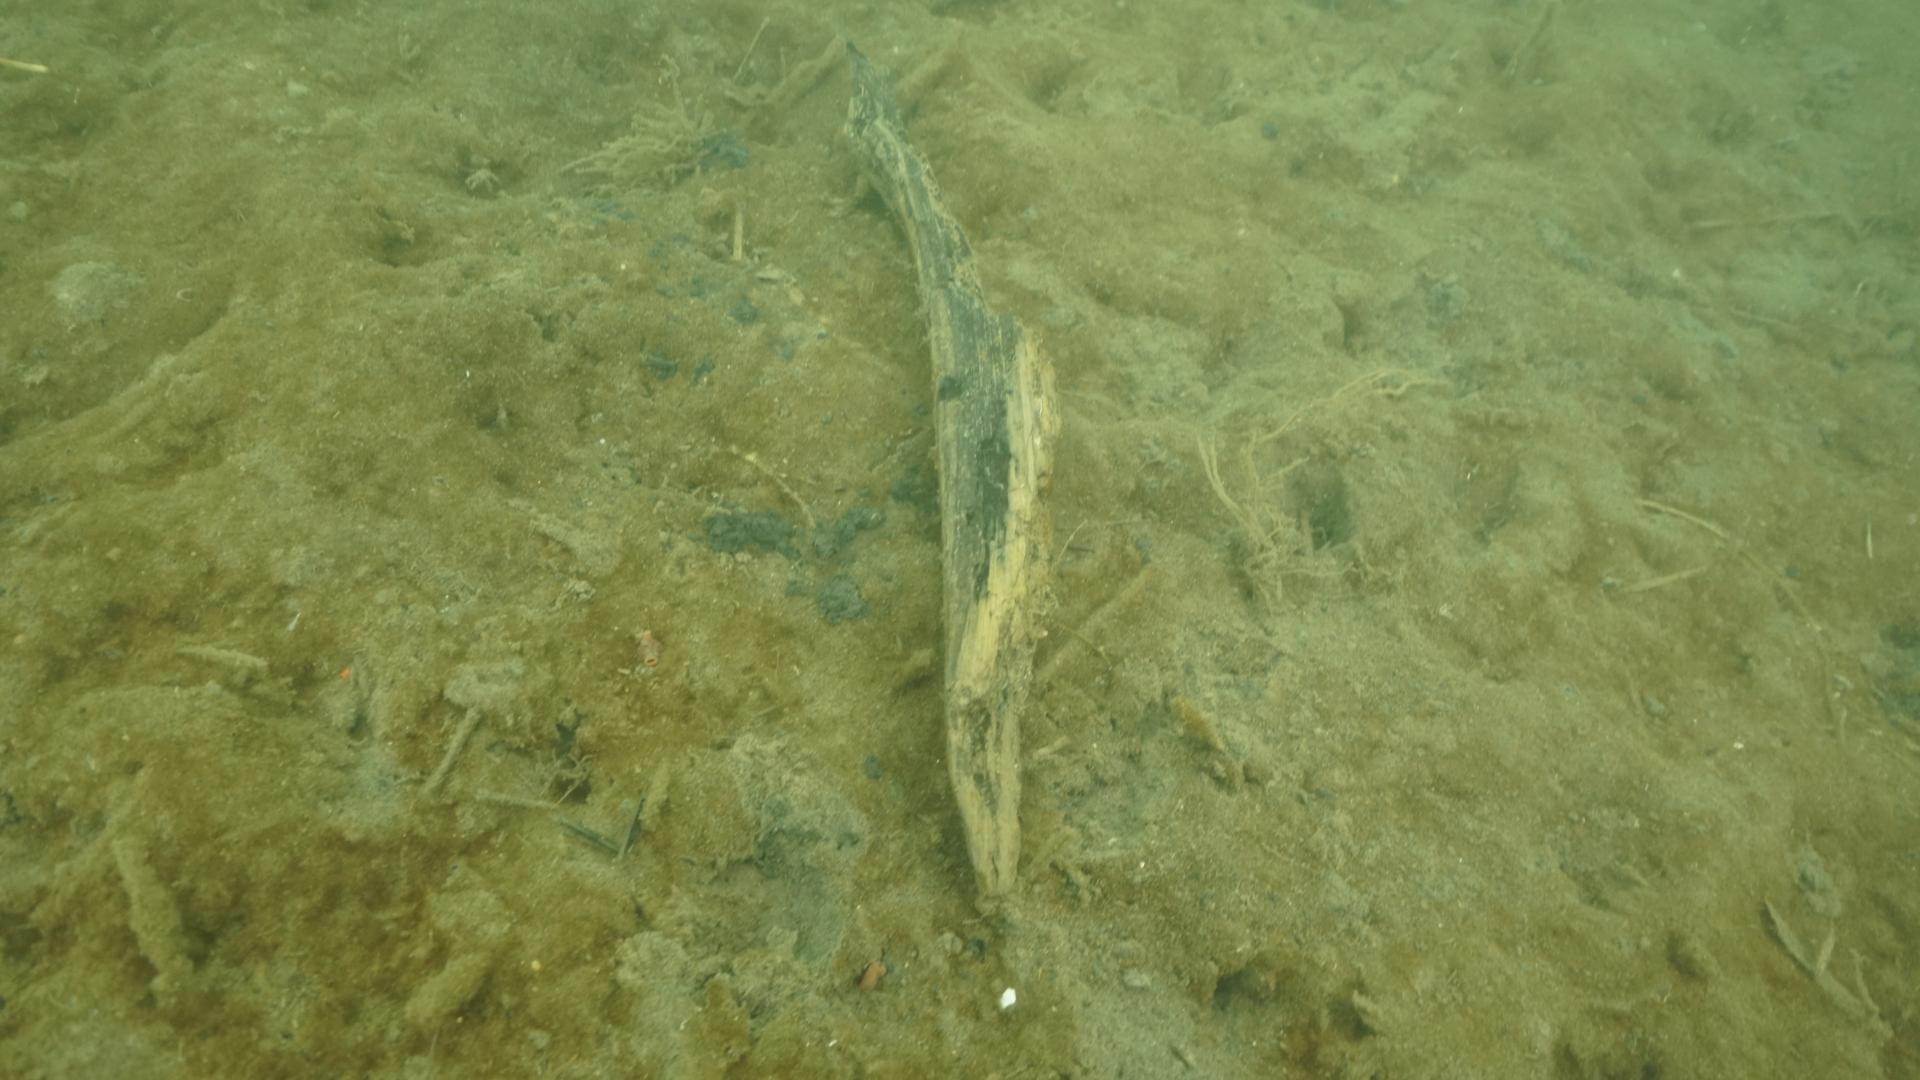wood: (837, 38, 1062, 906)
